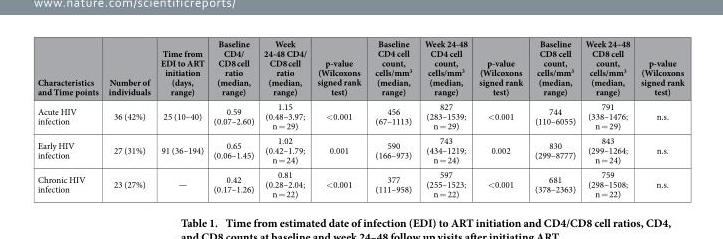table: (36, 37, 683, 199)
table column: (36, 37, 102, 199), (311, 37, 367, 199), (472, 37, 528, 199), (417, 37, 472, 199), (579, 37, 634, 199), (154, 37, 208, 199), (258, 37, 311, 199), (102, 37, 154, 199), (528, 37, 579, 199), (208, 37, 258, 199), (367, 37, 417, 199), (634, 37, 683, 199)
table column header: (36, 37, 683, 98)
table row: (36, 37, 683, 98), (36, 98, 683, 132), (36, 132, 683, 166), (36, 166, 683, 199)
